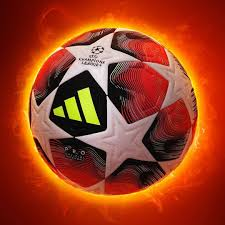football ball: (28, 28, 200, 197)
